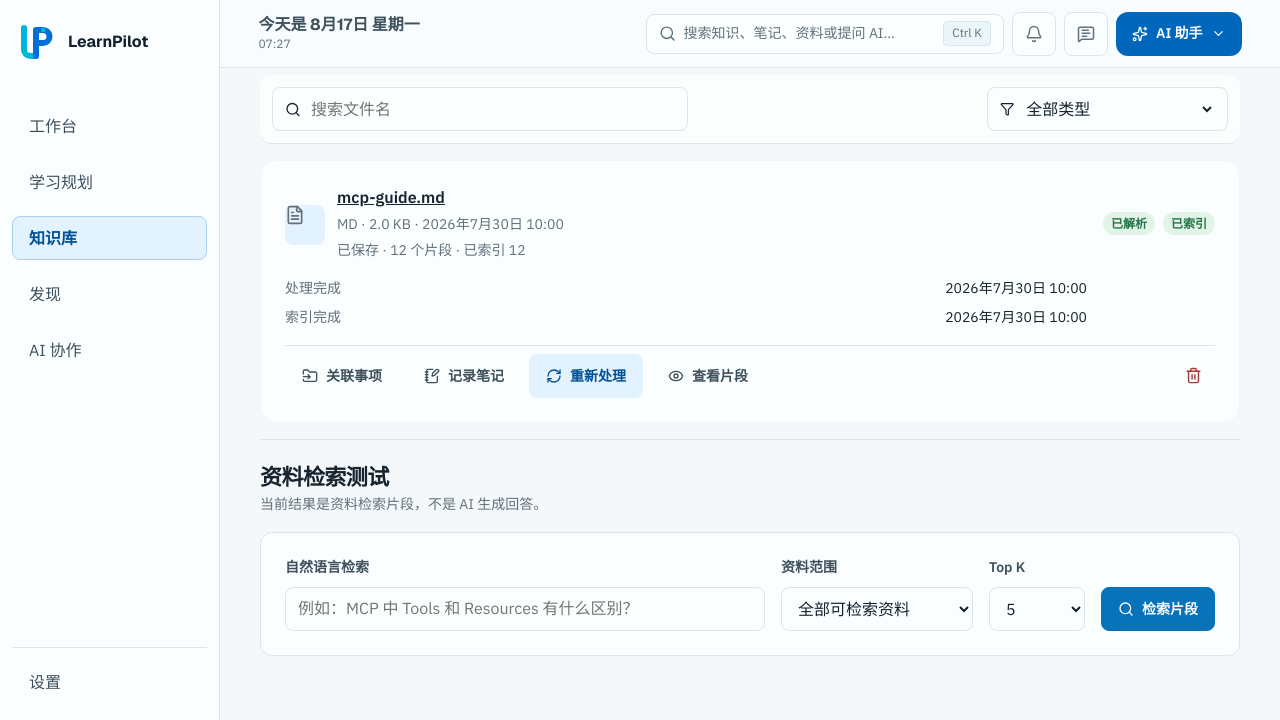
资料知识库 V2 › 按资料范围执行语义检索并展示非 AI 片段结果
(page scrolled)
Expected: the text "当前结果是资料检索片段，不是 AI 生成回答。" is shown, [260, 494, 547, 516]
Type "Tools" into the field labelled "自然语言检索". click: (525,609)
box: [285, 587, 765, 631]
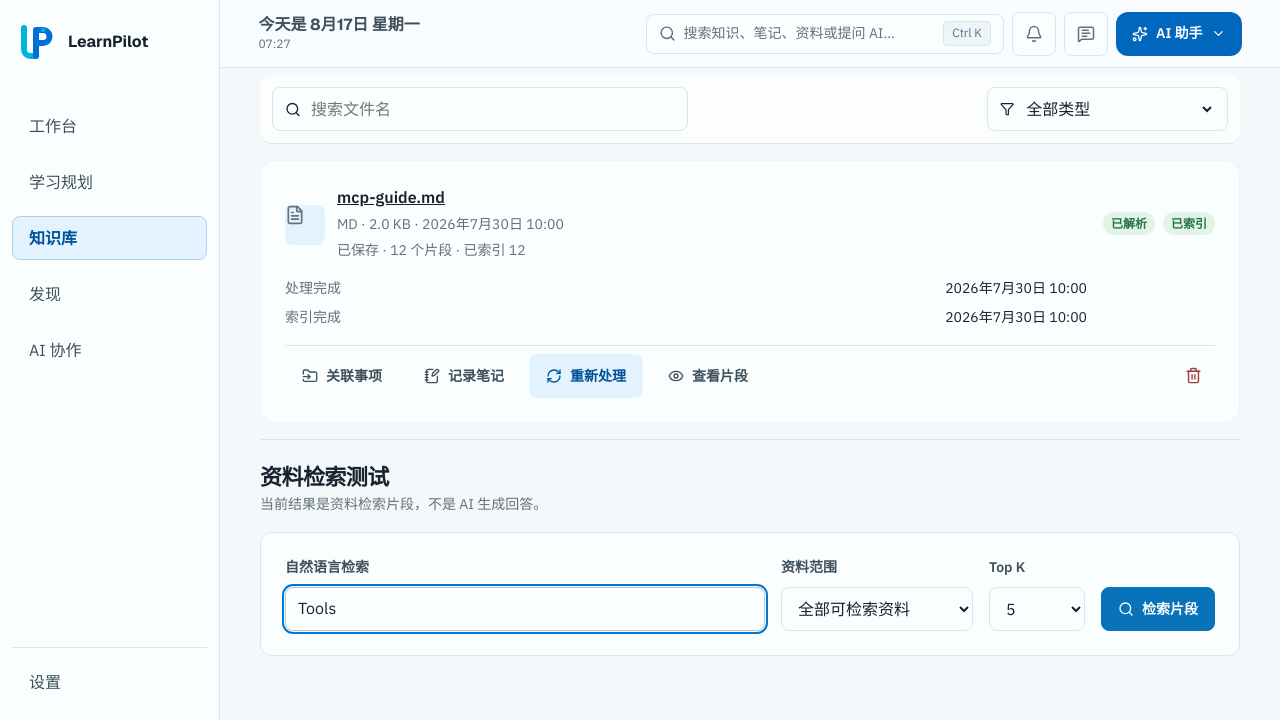
Select "mcp-guide.md" in the dropdown labelled "资料范围". click: (877,609)
box: [781, 587, 973, 631]
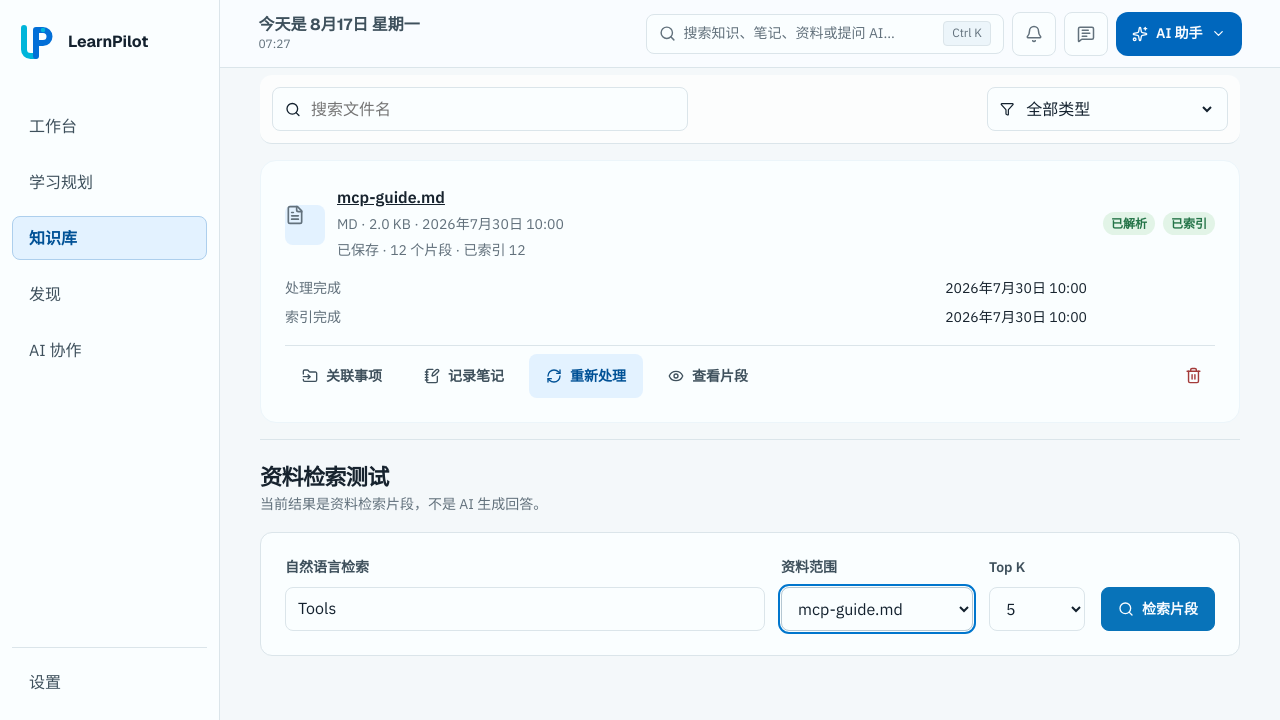
Click the button "检索片段". click: (1158,609)
box: [1101, 587, 1215, 631]
(page scrolled)
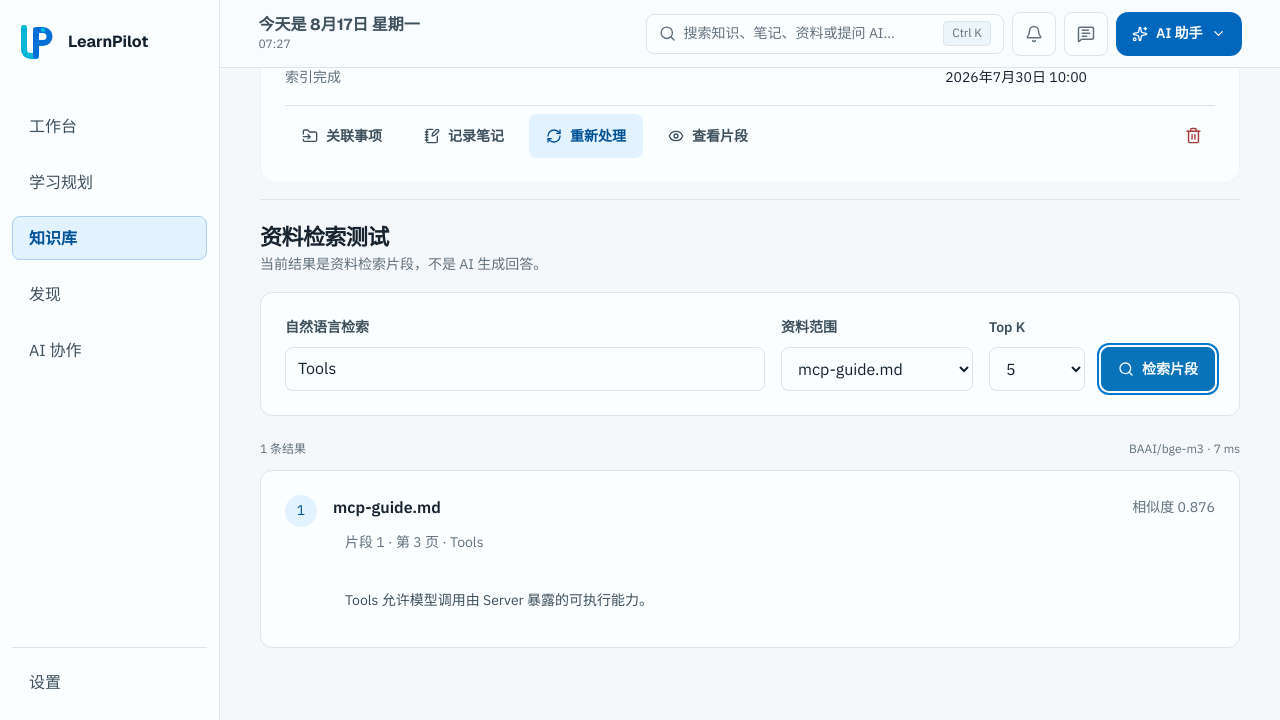
Now the text "相似度 0.876" is shown, box [1132, 497, 1215, 518]
Now the text "片段 1 · 第 3 页 · Tools" is shown, box [345, 533, 484, 551]
